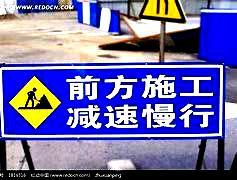sign: (2, 64, 223, 138)
